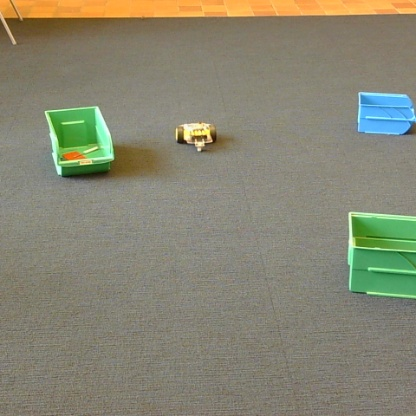robot: (175, 122, 216, 151)
